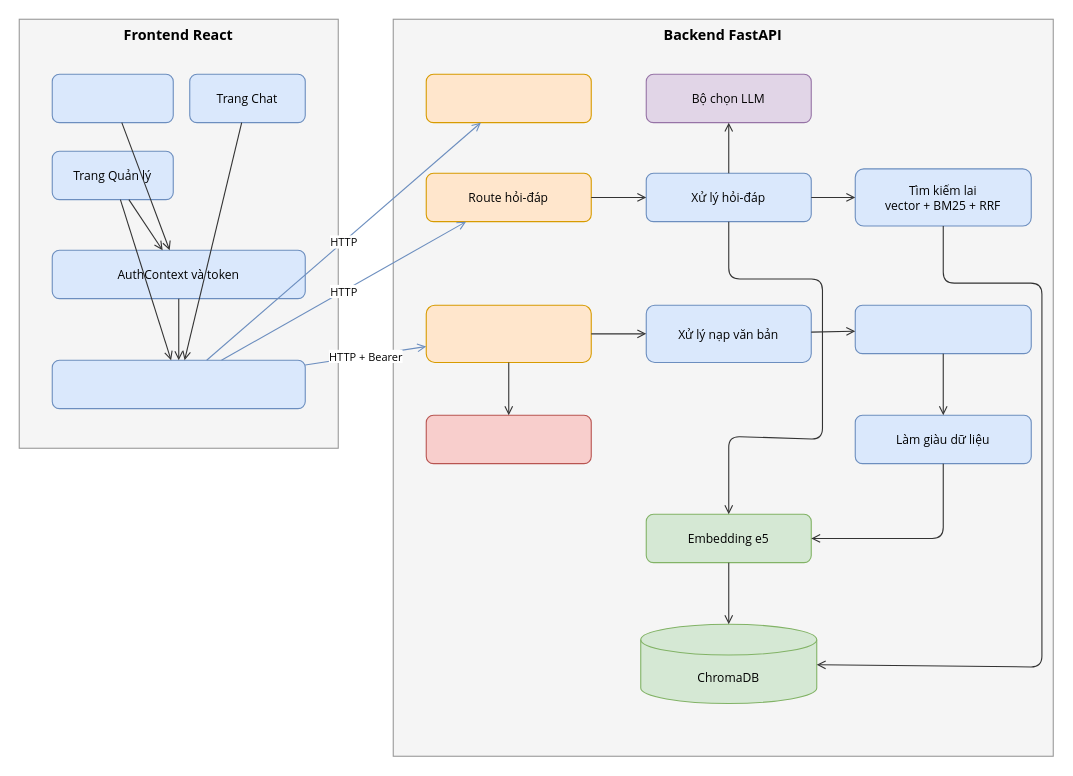
Some shapes in this 1073 by 776 pixel diagram are drawn without their labels. Each missing label, with the centre of its shape:
axios client gắn Bearer: point 178,384
Bộ cắt văn bản: point 942,329
Kiểm tra token: point 508,439
Route văn bản (ghi cần token): point 508,333
Route đăng nhập: point 508,98
Trang đăng nhập: point 112,98
